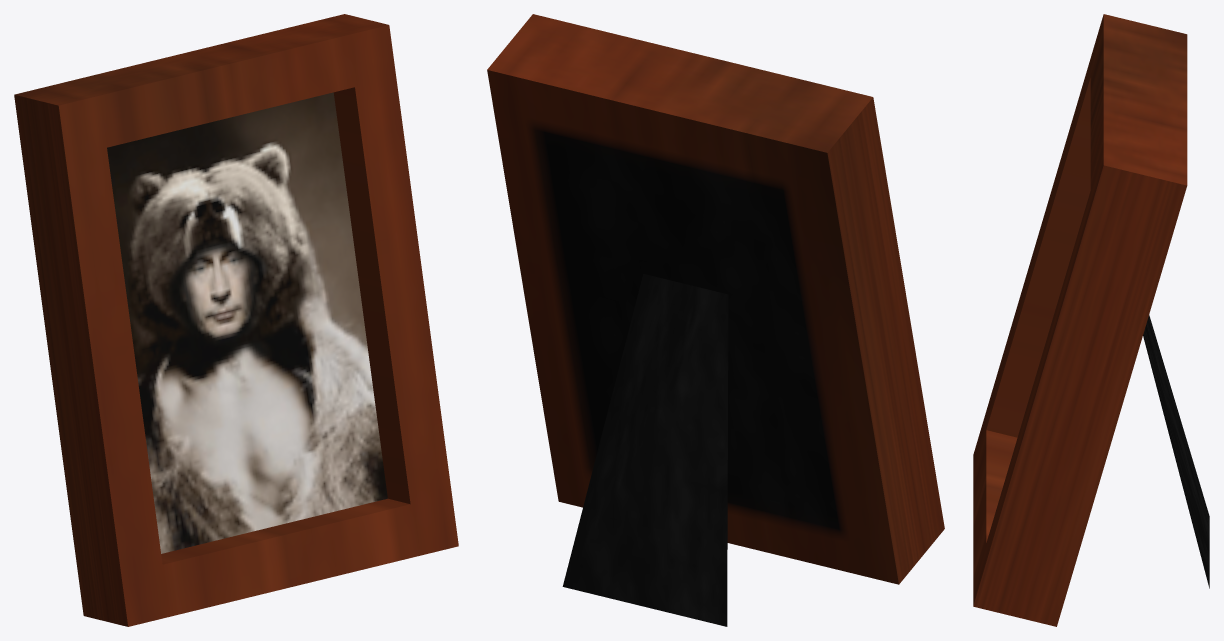
Rendered from PutinFrame.fbx.
3 renders of one model, left to right at view 1: azimuth 30°, elevation 25°; view 2: azimuth 150°, elevation 25°; view 3: azimuth 270°, elevation 25°, orthographic. The views are drawn at different scales.
Parts seen in each view (by area): view 1: pCube2; view 2: pCube2; view 3: pCube2.
Boxes of the visible parts, x1,y1,x2,y2 form: pCube2: (14,14,458,626); pCube2: (487,14,944,626); pCube2: (973,14,1209,626).
Bounding box in the file's own units: 0.8885 × 1.27 × 0.5868.
